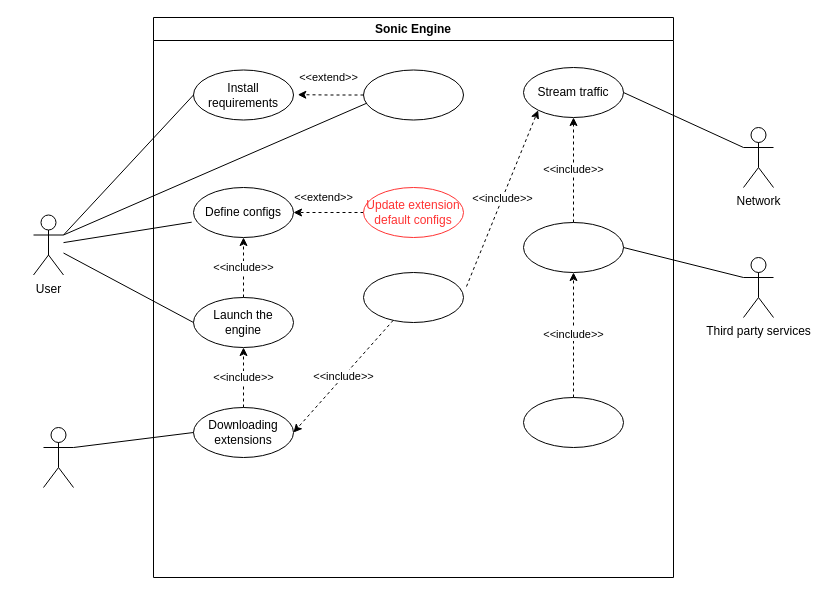
Some shapes in this 828 by 595 pixel diagram are drawn without their labels. Each missing label, with the centre of its shape:
"Cofnigure the environment" goes at pixel 413 94.
"Extensions hub" goes at pixel 58 457.
"Load extensions" goes at pixel 413 297.
"Request predictions" goes at pixel 573 247.
"Save reports" goes at pixel 573 422.
